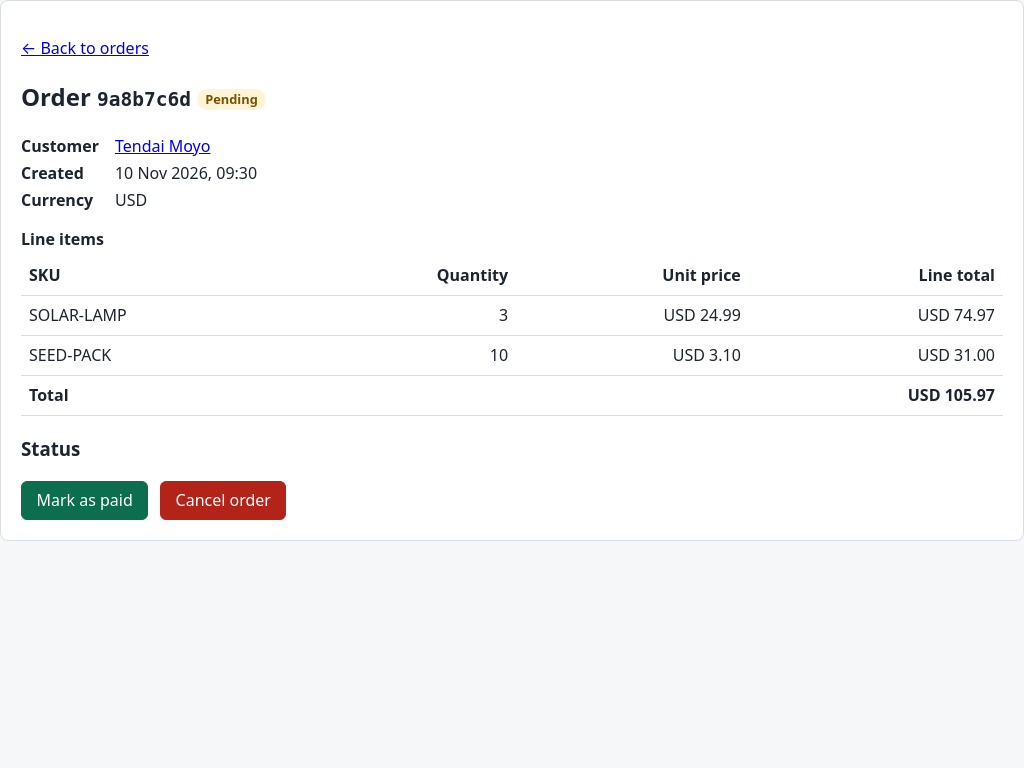
OrderDetailsPage › sends an Idempotency-Key and reuses it when retrying after a transient failure
Click the button "Mark as paid".
click(85, 501)  # box [21, 481, 148, 520]
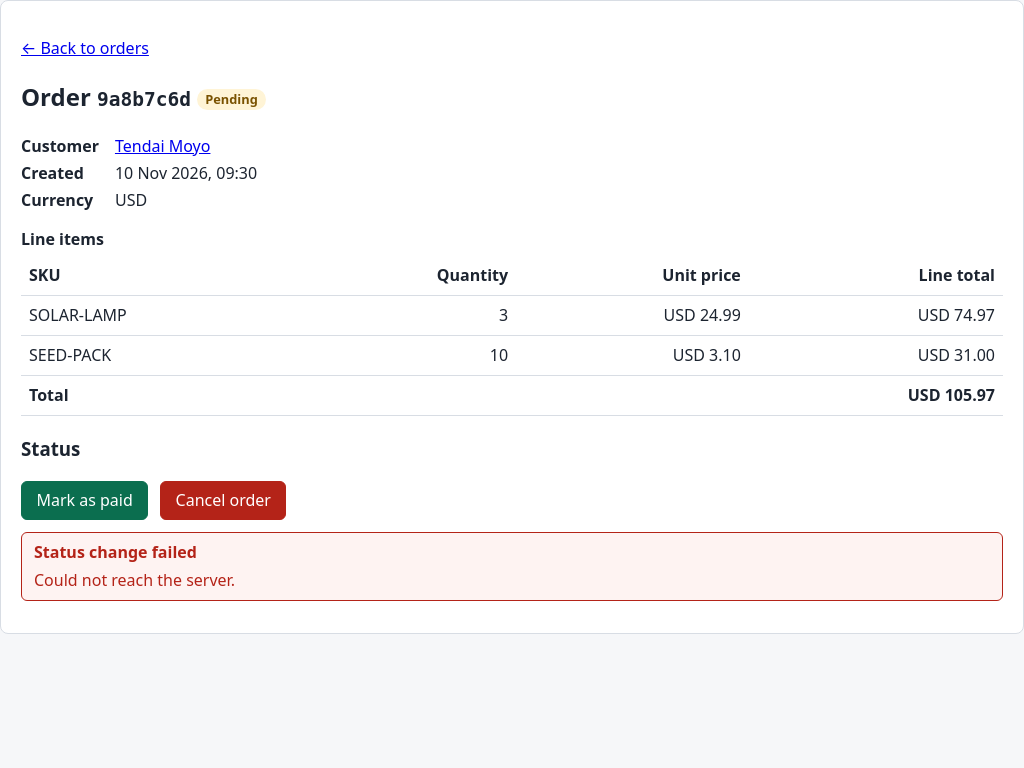
Check: the message shows "Could not reach the server.", box [34, 569, 235, 591]
Click the button "Mark as paid".
click(85, 501)  # box [21, 481, 148, 520]
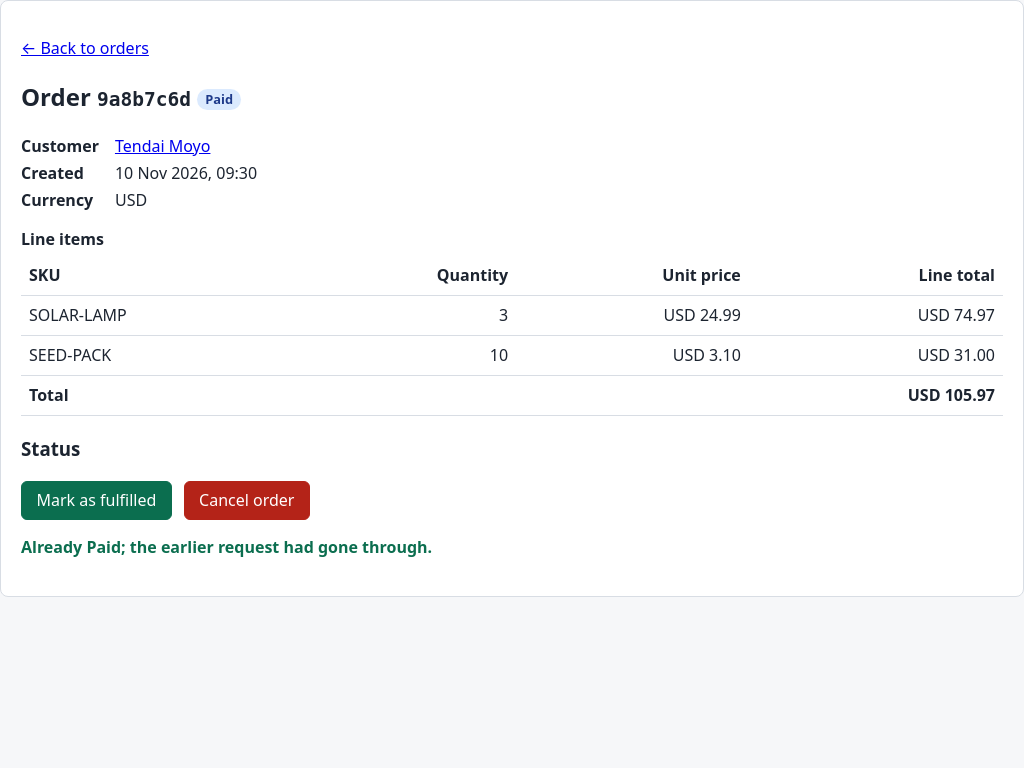
Check: the text "Already Paid; the earlier request had gone through." is shown, box [21, 536, 432, 558]
Check: the text "Paid" is shown, box [197, 89, 241, 110]
Check: the button "Mark as fulfilled" is shown, box [21, 481, 172, 520]
